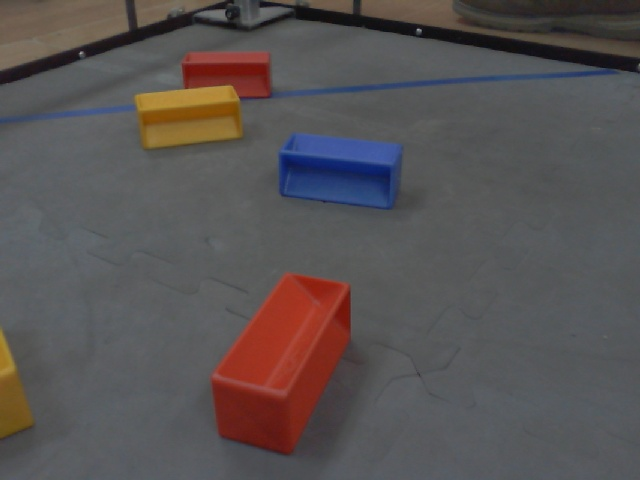BlueSample: (273, 130, 403, 212)
RedSample: (205, 267, 360, 458), (179, 48, 277, 104)
YellowSample: (131, 85, 250, 149), (1, 322, 39, 439)
